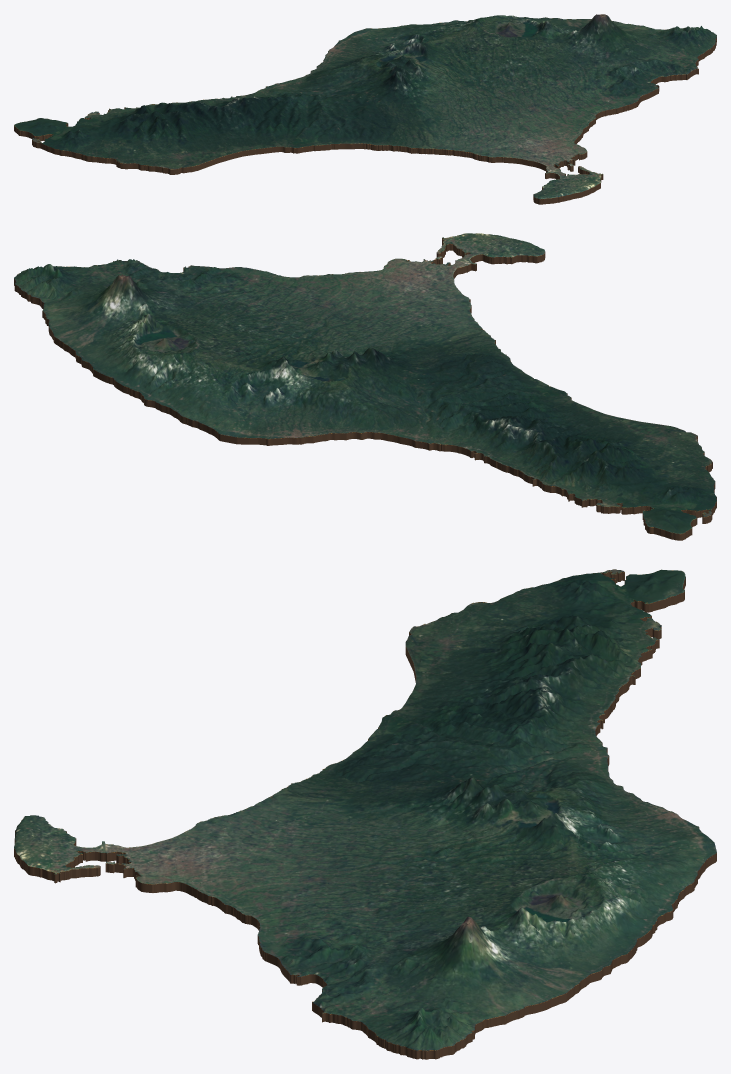
The model's file is sekala-bali-merged.glb.
3 views of the same model, one above another, from view 1: azimuth 30°, elevation 25°; view 2: azimuth 150°, elevation 25°; view 3: azimuth 270°, elevation 25° (orthographic). The views are drawn at different scales.
Parts seen in each view (by area): view 1: Bali_Terrain, Bali_Base; view 2: Bali_Terrain, Bali_Base; view 3: Bali_Terrain, Bali_Base.
Boxes of the visible parts, x1,y1,x2,y2 form: Bali_Terrain: (14, 14, 716, 198); Bali_Base: (14, 37, 716, 204); Bali_Terrain: (14, 233, 716, 533); Bali_Base: (14, 238, 716, 540); Bali_Terrain: (14, 569, 716, 1050); Bali_Base: (14, 572, 716, 1059).
Bounding box in the file's own units: 14.12 × 0.8518 × 8.71.
Materials: 3 (1 with a texture image).
